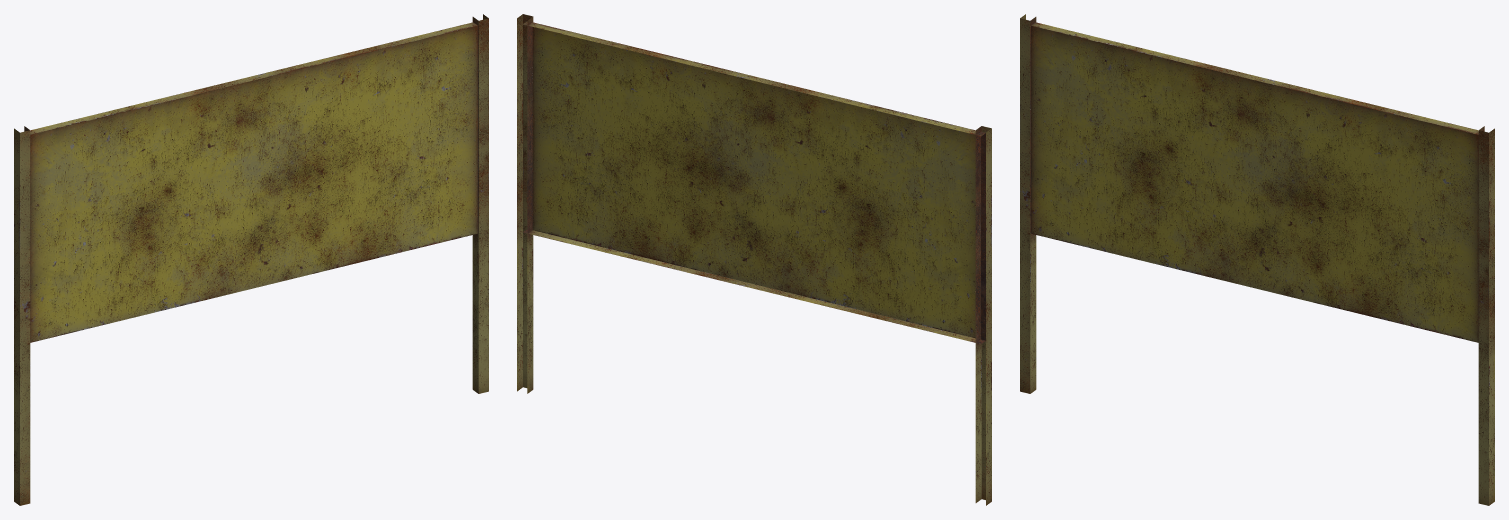
Rendered from SM_Villege_Sign.fbx.
3 views of the same model, side by side, from view 1: azimuth 30°, elevation 25°; view 2: azimuth 150°, elevation 25°; view 3: azimuth 330°, elevation 25° (orthographic).
Parts seen in each view (by area): view 1: SM_Villege_Sign; view 2: SM_Villege_Sign; view 3: SM_Villege_Sign.
Part boxes in pixels (box(x1,y1,x2,y2)): SM_Villege_Sign: box(14, 14, 488, 505); SM_Villege_Sign: box(517, 14, 991, 505); SM_Villege_Sign: box(1020, 14, 1494, 505).
Size of the model in its own units: 920 by 700 by 20.
Materials: 1 (1 with a texture image).
